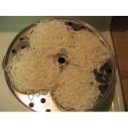idiyappam: (7, 50, 59, 94), (58, 65, 98, 109), (68, 29, 105, 67), (31, 21, 69, 54)
